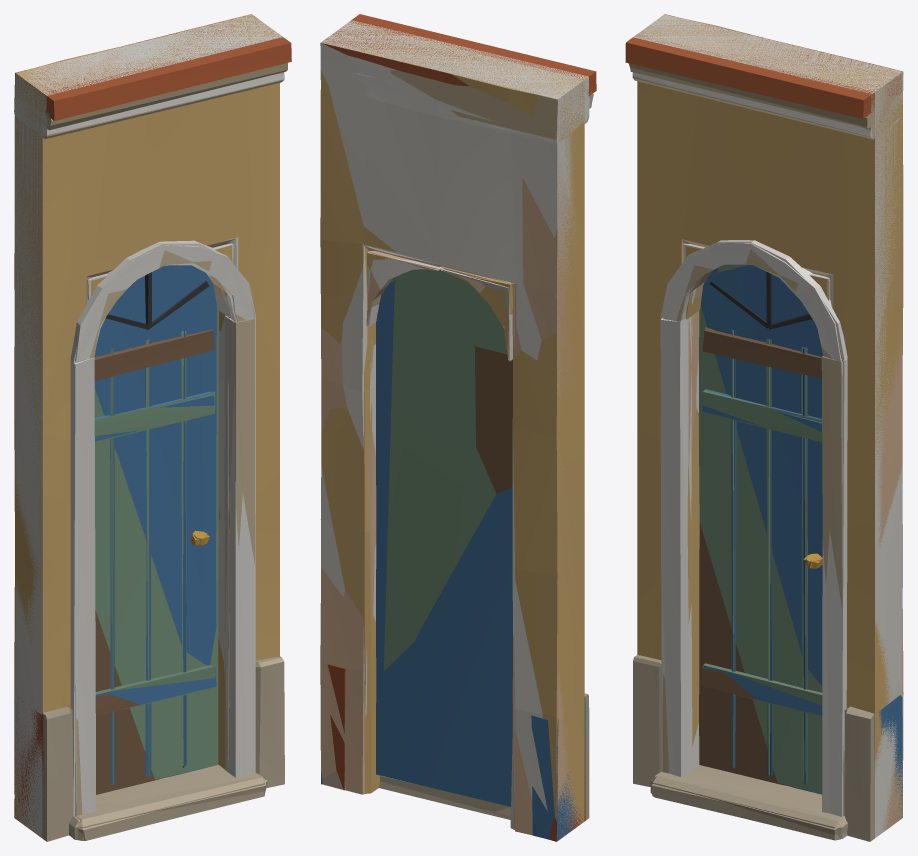
File: wall.door.glb
3 renders of one model, left to right at view 1: azimuth 30°, elevation 25°; view 2: azimuth 150°, elevation 25°; view 3: azimuth 330°, elevation 25°, orthographic.
Visible parts, largest first — view 1: wall.door.v1.mesh, wall.door.v0.mesh, wall.door.v2.mesh; view 2: wall.door.v0.mesh, wall.door.v1.mesh, wall.door.v2.mesh; view 3: wall.door.v1.mesh, wall.door.v2.mesh, wall.door.v0.mesh.
Part boxes in pixels (x1,y1,x2,y2): wall.door.v1.mesh: [14, 14, 291, 841]; wall.door.v0.mesh: [14, 14, 282, 840]; wall.door.v2.mesh: [14, 16, 287, 839]; wall.door.v0.mesh: [320, 20, 588, 841]; wall.door.v1.mesh: [320, 14, 596, 829]; wall.door.v2.mesh: [320, 25, 593, 841]; wall.door.v1.mesh: [625, 14, 903, 841]; wall.door.v2.mesh: [628, 14, 903, 838]; wall.door.v0.mesh: [633, 14, 903, 840].
Size of the model in its own units: 0.9999 by 3 by 0.3037.
